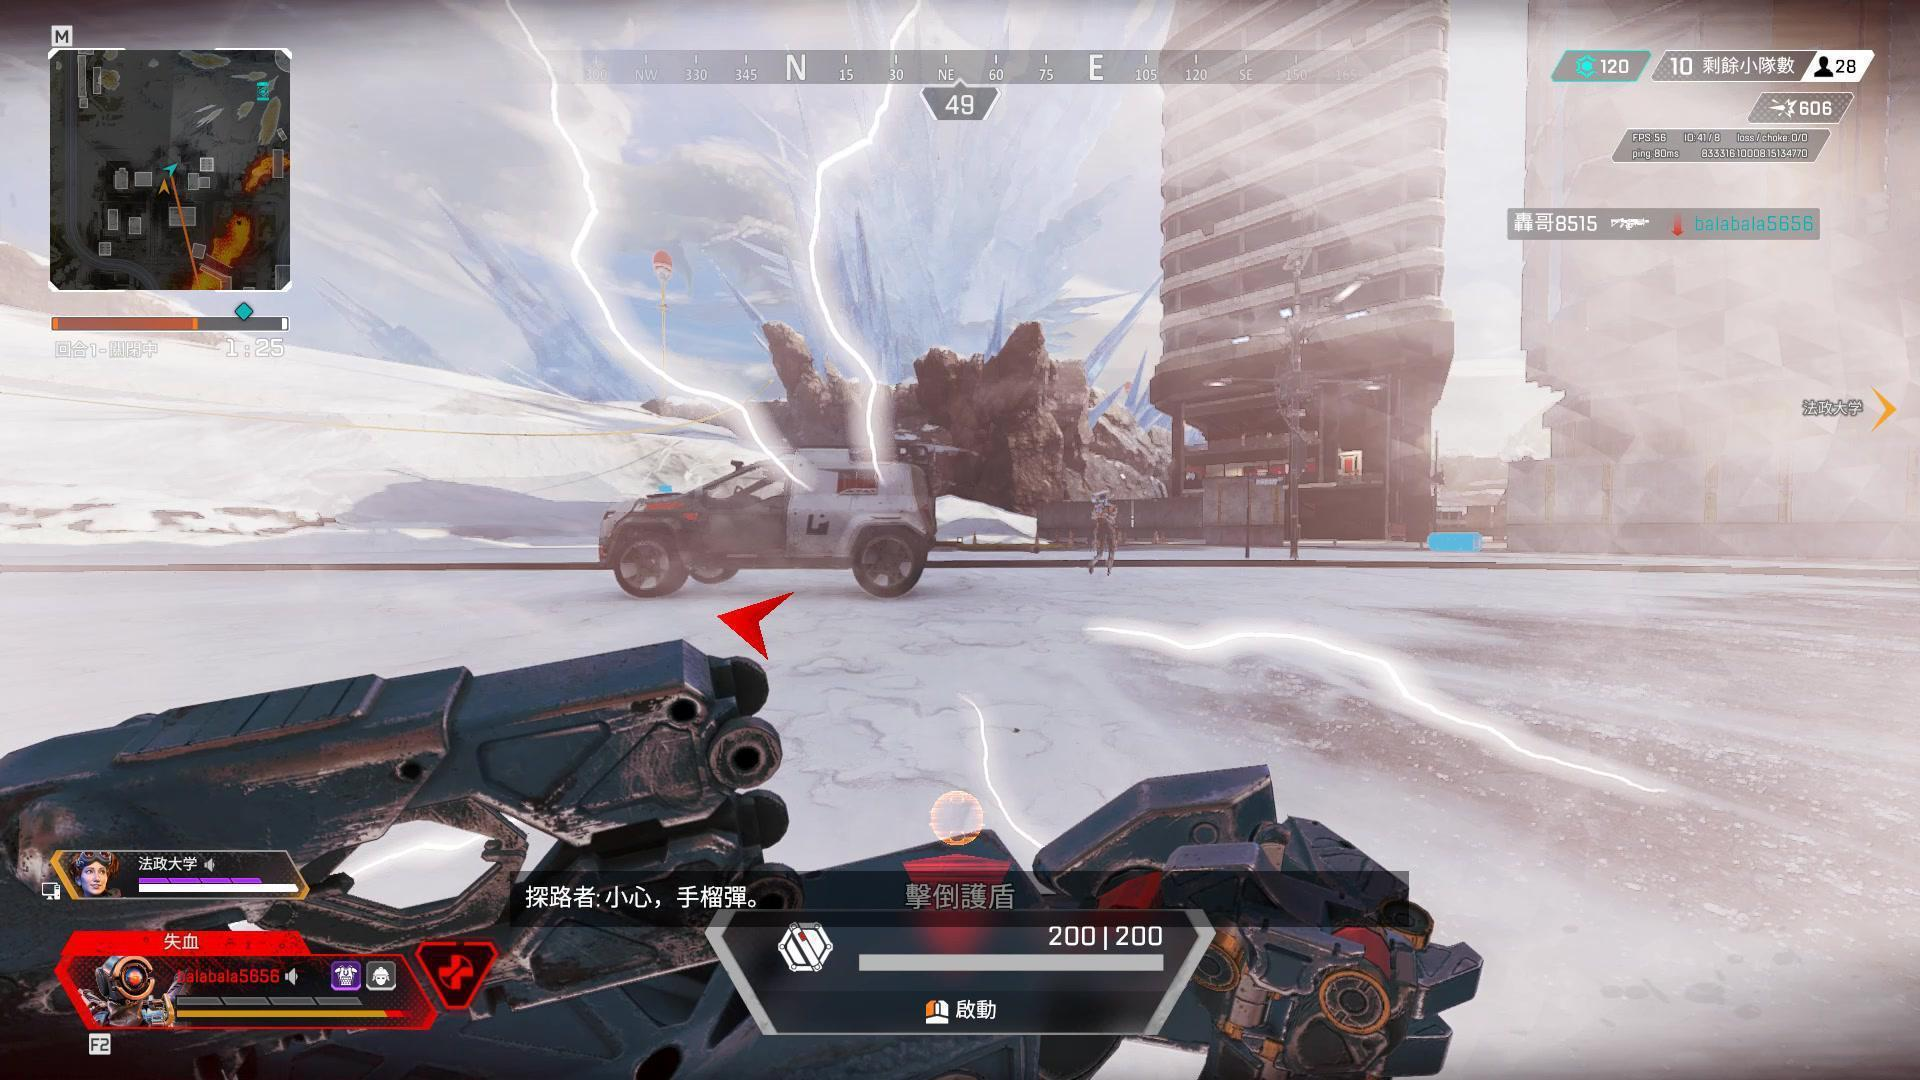avatar: (1086, 491, 1120, 574)
